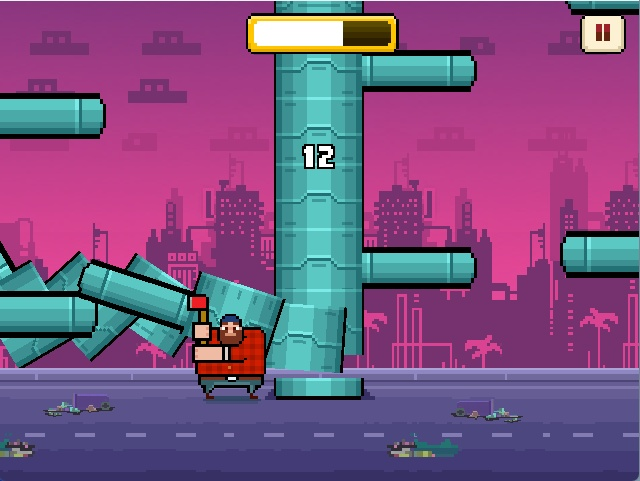right_obs: (356, 241, 483, 293), (359, 49, 485, 95)
timberman: (182, 287, 272, 408)
